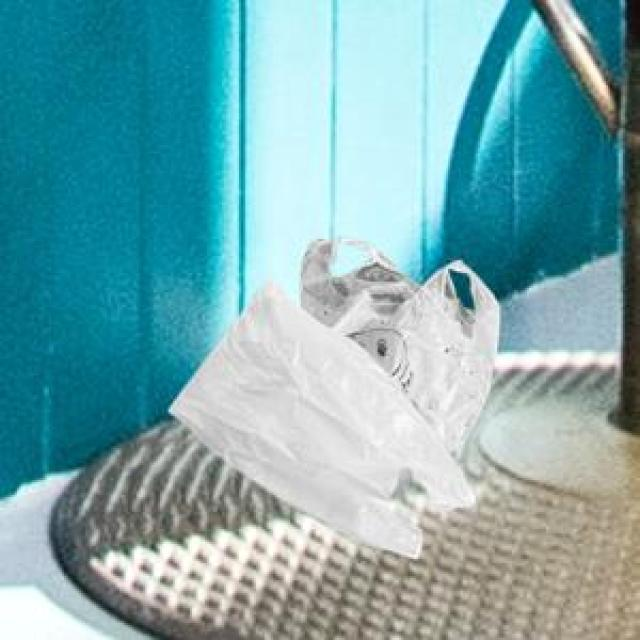Plastic_Bag: (166, 272, 470, 556), (298, 234, 497, 454)
